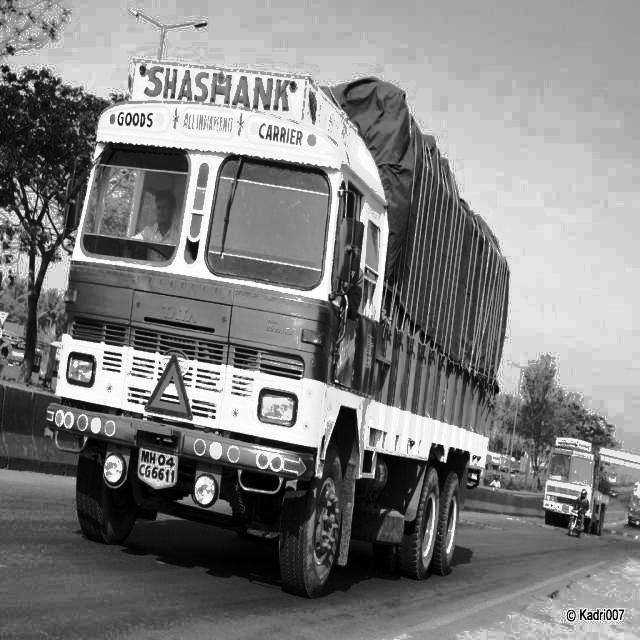HCV: (38, 47, 524, 611)
